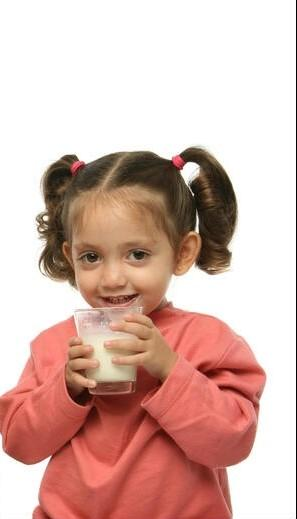Healthy: (51, 149, 215, 309)
